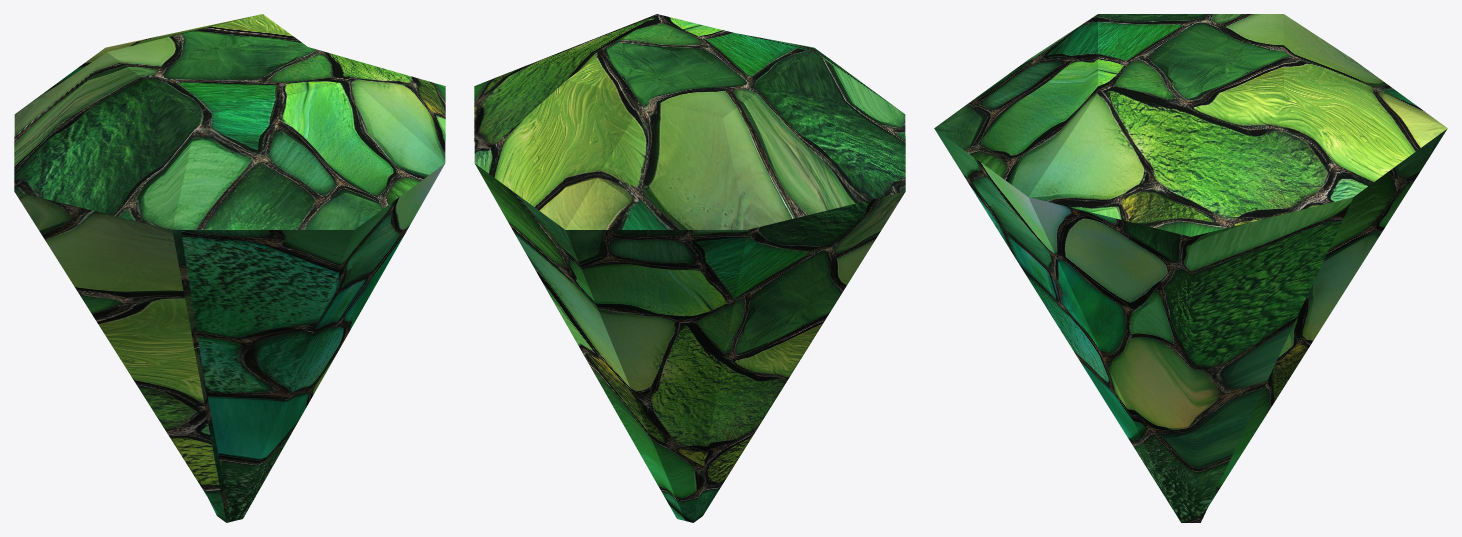
File: gemstone3Green.glb
3 renders of one model, left to right at view 1: azimuth 30°, elevation 25°; view 2: azimuth 150°, elevation 25°; view 3: azimuth 270°, elevation 25°, orthographic. The views are drawn at different scales.
Parts seen in each view (by area): view 1: gemstone2; view 2: gemstone2; view 3: gemstone2.
Part boxes in pixels (<box>): gemstone2: <box>14,14,445,522</box>; gemstone2: <box>474,14,905,522</box>; gemstone2: <box>934,14,1447,522</box>.
Size of the model in its own units: 1 by 1 by 1.
Materials: 1 (1 with a texture image).
